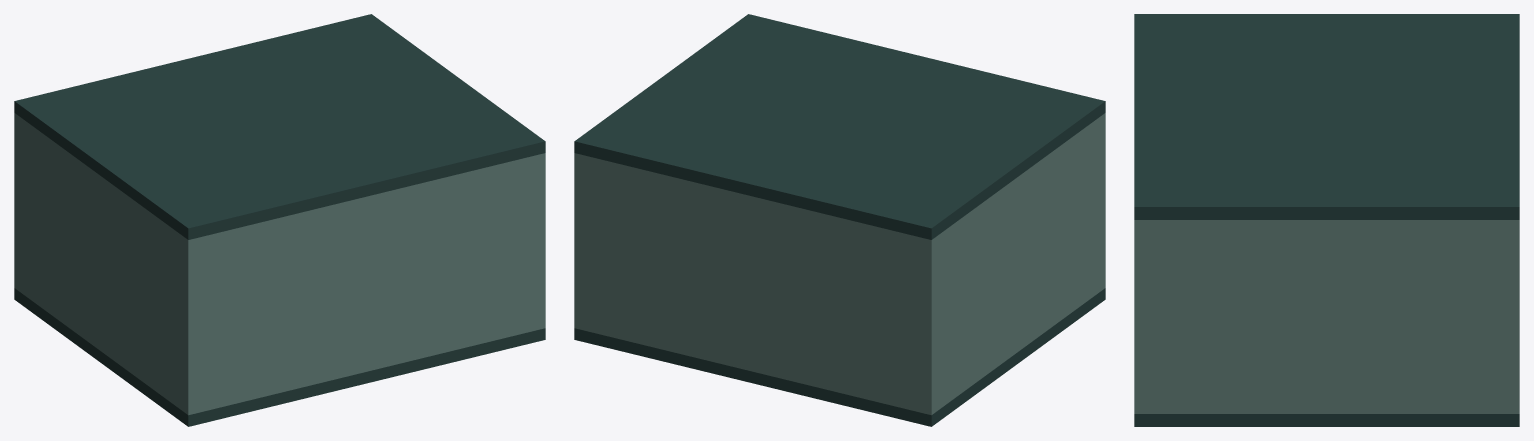
File: shelter.glb
3 renders of one model, left to right at view 1: azimuth 30°, elevation 25°; view 2: azimuth 150°, elevation 25°; view 3: azimuth 270°, elevation 25°, orthographic. The views are drawn at different scales.
Parts seen in each view (by area): view 1: ceiling_slab, end_wall_1, side_wall_-1, floor_slab, side_wall_1, end_wall_-1; view 2: ceiling_slab, end_wall_-1, side_wall_-1, floor_slab, side_wall_1; view 3: ceiling_slab, side_wall_1, floor_slab, end_wall_-1, end_wall_1.
Boxes of the visible parts, x1,y1,x2,y2 form: ceiling_slab: (14, 14, 545, 239); end_wall_1: (182, 154, 542, 414); side_wall_-1: (14, 118, 199, 415); floor_slab: (14, 288, 545, 426); side_wall_1: (535, 153, 545, 328); end_wall_-1: (14, 113, 20, 291); ceiling_slab: (574, 14, 1105, 239); end_wall_-1: (574, 155, 937, 414); side_wall_-1: (920, 113, 1105, 415); floor_slab: (574, 288, 1105, 426); side_wall_1: (574, 153, 585, 330); ceiling_slab: (1134, 14, 1519, 219); side_wall_1: (1134, 220, 1519, 413); floor_slab: (1134, 414, 1519, 426); end_wall_-1: (1505, 220, 1519, 413); end_wall_1: (1134, 220, 1148, 413).
Size of the model in its own units: 6.4 by 3.4 by 5.4.
